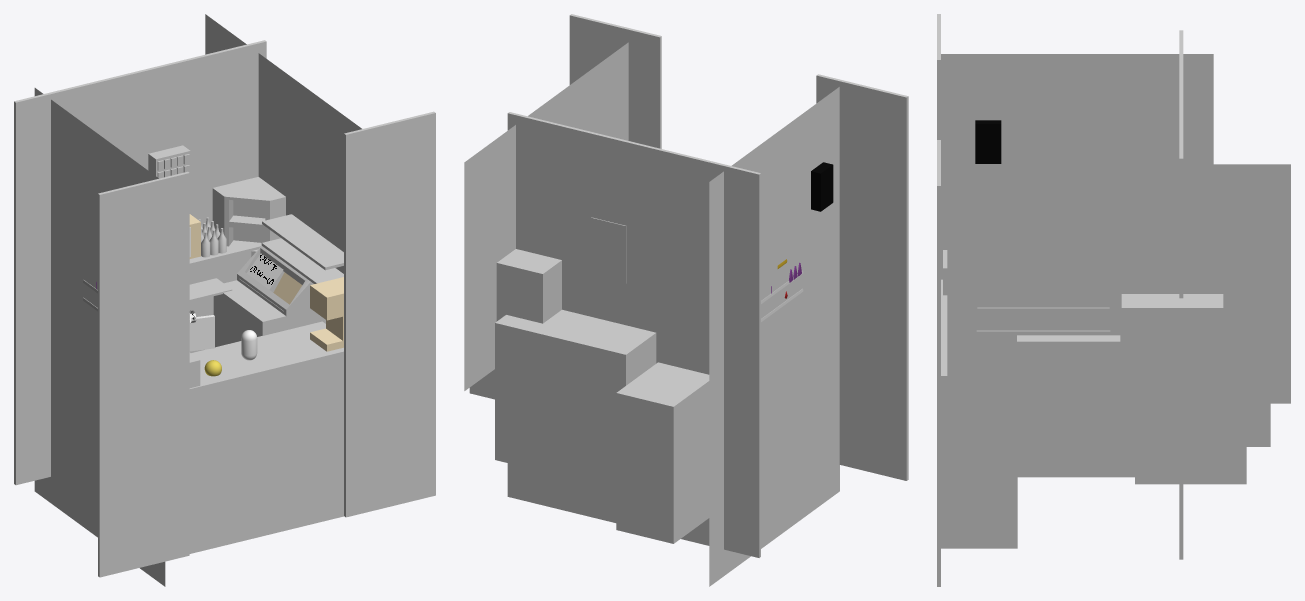
The model's file is SMshop.fbx.
The picture shows the model from 3 angles, left to right: view 1: azimuth 30°, elevation 25°; view 2: azimuth 150°, elevation 25°; view 3: azimuth 270°, elevation 25°; orthographic projection. The views are drawn at different scales.
Parts seen in each view (by area): view 1: 立方体_3, 立方体_4, shop_3, 立方体_5, 立方体, Freezer, 立方体_14, 立方体_7, 立方体_10, juiceserver, 立方体_9, sigarett (+4 smaller); view 2: shop_3, 立方体_5, 立方体_3, 立方体_7, 立方体_8, 立方体_4, 立方体_14, sigarett, TelephoneManager; view 3: shop_3, 立方体_14, 立方体, Freezer, 立方体_7, 立方体_5, 立方体_4, TelephoneManager, 立方体_8, 立方体_10, 立方体_9, 立方体_3.
Part boxes in pixels (left/top/right/bottom): 立方体_3: left=98, top=171, right=189, bottom=577; 立方体_4: left=344, top=111, right=435, bottom=517; shop_3: left=34, top=14, right=361, bottom=586; 立方体_5: left=14, top=40, right=266, bottom=485; 立方体: left=189, top=321, right=343, bottom=553; Freezer: left=213, top=246, right=325, bottom=347; 立方体_14: left=212, top=177, right=285, bottom=256; 立方体_7: left=189, top=240, right=261, bottom=350; 立方体_10: left=262, top=214, right=343, bottom=270; juiceserver: left=310, top=277, right=343, bottom=351; 立方体_9: left=261, top=238, right=343, bottom=283; sigarett: left=148, top=145, right=190, bottom=208; shop_3: left=464, top=42, right=839, bottom=586; 立方体_5: left=507, top=112, right=760, bottom=557; 立方体_3: left=816, top=74, right=908, bottom=480; 立方体_7: left=495, top=309, right=656, bottom=489; 立方体_8: left=616, top=362, right=709, bottom=543; 立方体_4: left=569, top=14, right=661, bottom=148; 立方体_14: left=469, top=249, right=561, bottom=399; sigarett: left=591, top=217, right=626, bottom=283; TelephoneManager: left=811, top=162, right=833, bottom=211; shop_3: left=941, top=54, right=1290, bottom=477; 立方体_14: left=1121, top=294, right=1223, bottom=451; 立方体: left=941, top=279, right=1017, bottom=548; Freezer: left=1017, top=335, right=1120, bottom=462; 立方体_7: left=1135, top=403, right=1246, bottom=484; 立方体_5: left=1179, top=30, right=1183, bottom=559; 立方体_4: left=937, top=140, right=940, bottom=586; TelephoneManager: left=975, top=120, right=1001, bottom=163; 立方体_8: left=1120, top=403, right=1270, bottom=446; 立方体_10: left=977, top=307, right=1109, bottom=311; 立方体_9: left=976, top=330, right=1110, bottom=333; 立方体_3: left=937, top=14, right=940, bottom=139.
Size of the model in its own units: 191 by 222 by 166.
